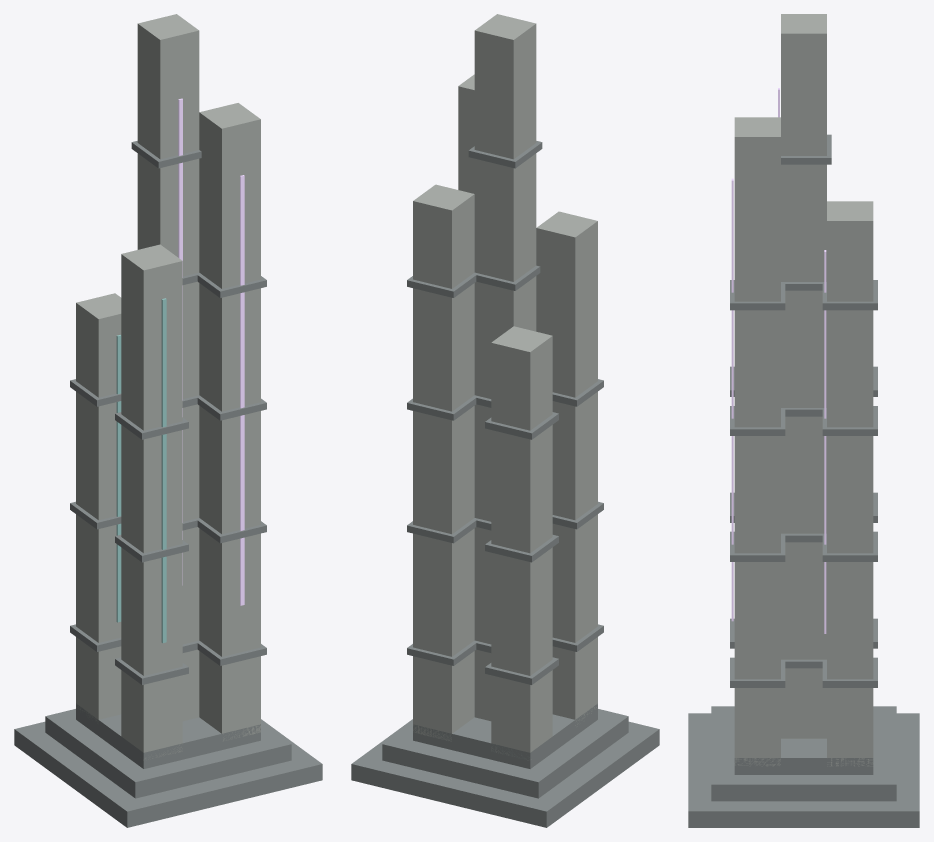
Rendered from SM_ENV_Building_18_MemoryTower.glb.
The picture shows the model from 3 angles, left to right: view 1: azimuth 30°, elevation 25°; view 2: azimuth 150°, elevation 25°; view 3: azimuth 270°, elevation 25°; orthographic projection. The views are drawn at different scales.
Visible parts, largest first — view 1: SM_ENV_Building_18_MemoryTower; view 2: SM_ENV_Building_18_MemoryTower; view 3: SM_ENV_Building_18_MemoryTower.
Part boxes in pixels (box(x1,y1,x2,y2)): SM_ENV_Building_18_MemoryTower: box(14, 14, 322, 827); SM_ENV_Building_18_MemoryTower: box(351, 14, 659, 827); SM_ENV_Building_18_MemoryTower: box(688, 14, 919, 827).
Bounding box in the file's own units: 5 × 18 × 5.
